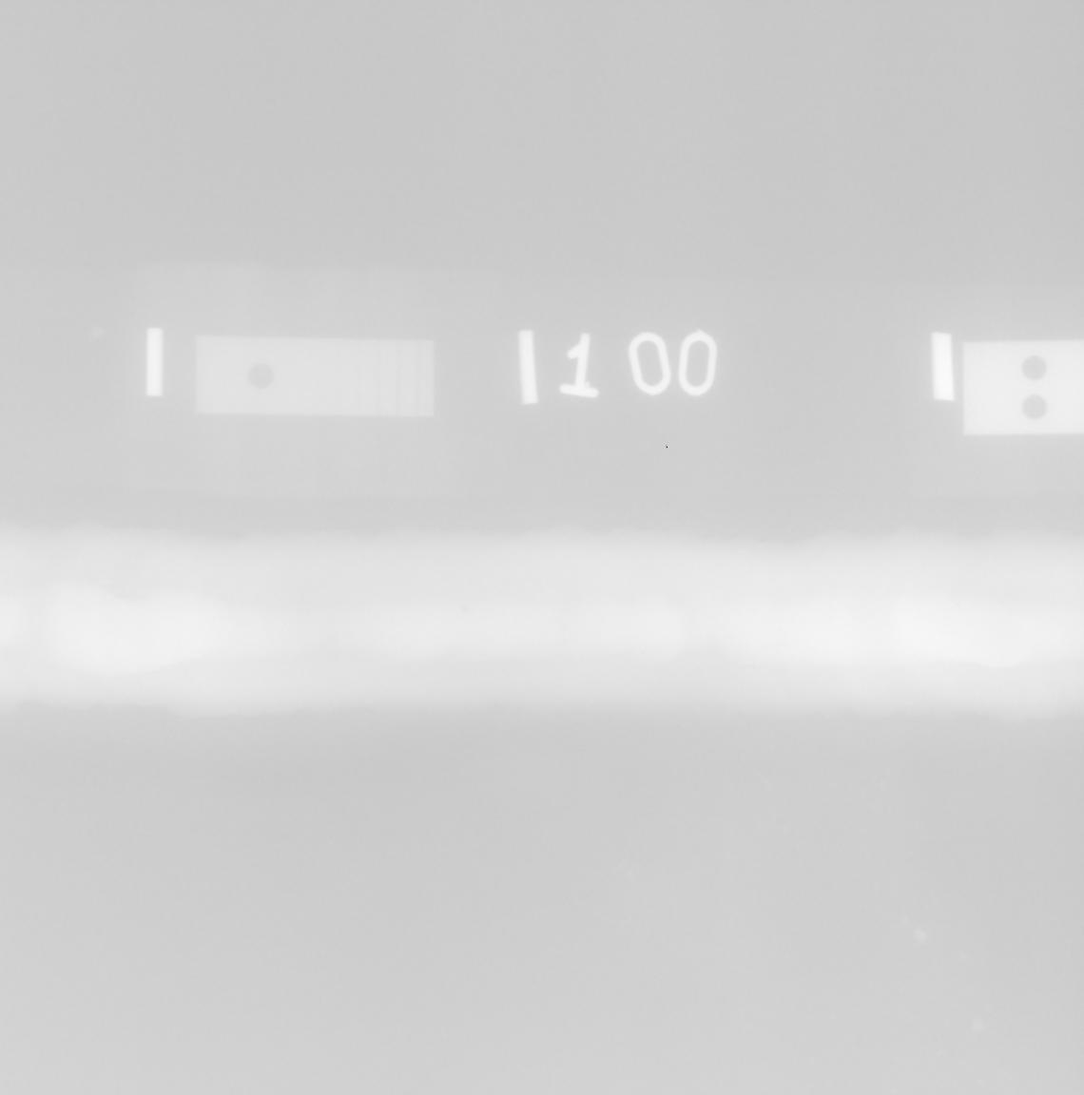Pore/Porosity: (461, 606, 469, 613), (956, 602, 960, 606)
Reference Standard 1: (196, 336, 435, 418)
